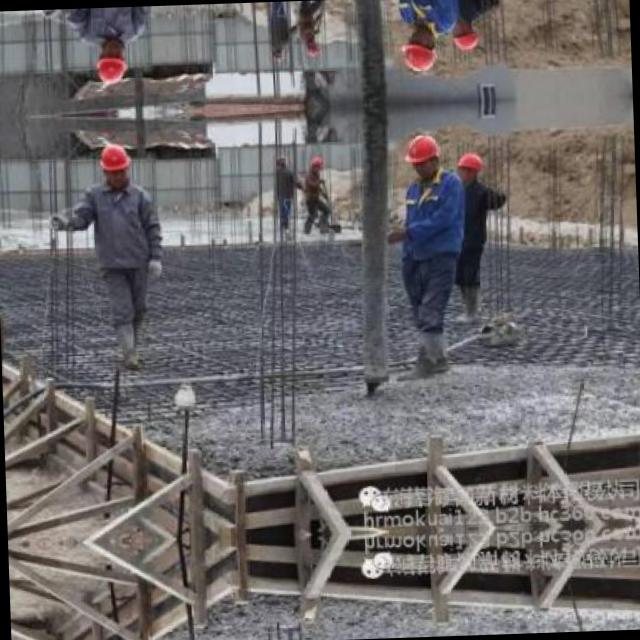helmet: (402, 132, 442, 178), (398, 28, 438, 74), (90, 40, 129, 86), (94, 142, 132, 188), (455, 148, 485, 184), (450, 16, 480, 52), (303, 38, 318, 61), (307, 152, 322, 174)
